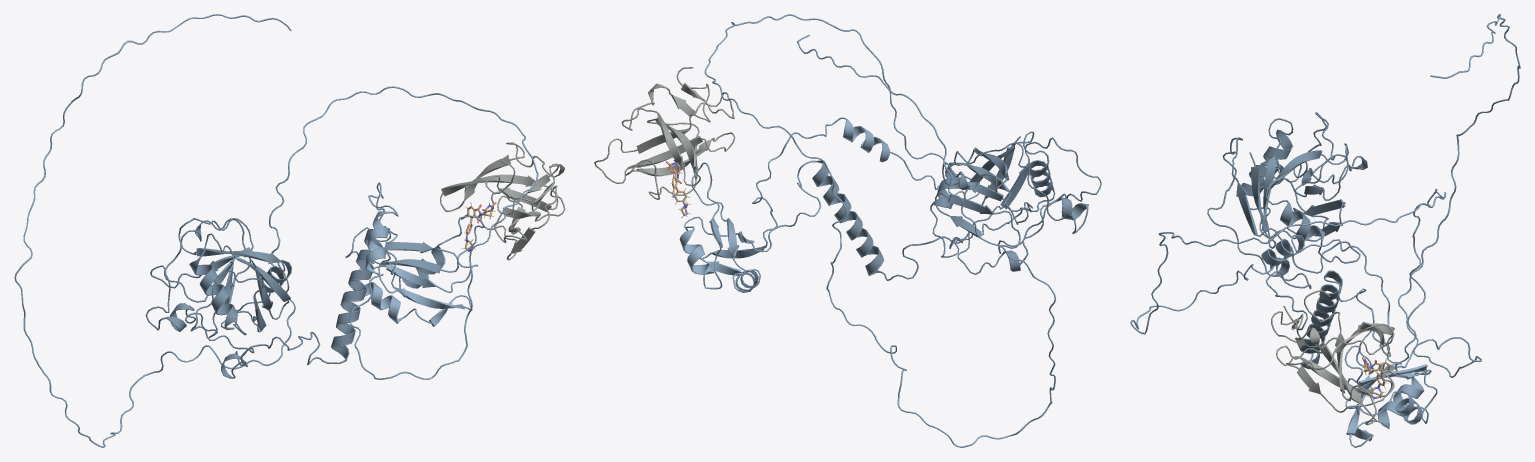
3 views of the same model, side by side, from view 1: azimuth 30°, elevation 25°; view 2: azimuth 150°, elevation 25°; view 3: azimuth 270°, elevation 25° (orthographic). The views are drawn at different scales.
Visible parts, largest first — view 1: node-geom96, node-geom97; view 2: node-geom96, node-geom97; view 3: node-geom96, node-geom97.
Part boxes in pixels (x1,y1,x2,y2): node-geom96: (145,142,565,378); node-geom97: (14,14,538,447); node-geom96: (594,67,1101,280); node-geom97: (679,14,1055,447); node-geom96: (1207,112,1394,425); node-geom97: (1130,14,1520,447).
Size of the model in its own units: 144 by 103 by 92.86.
